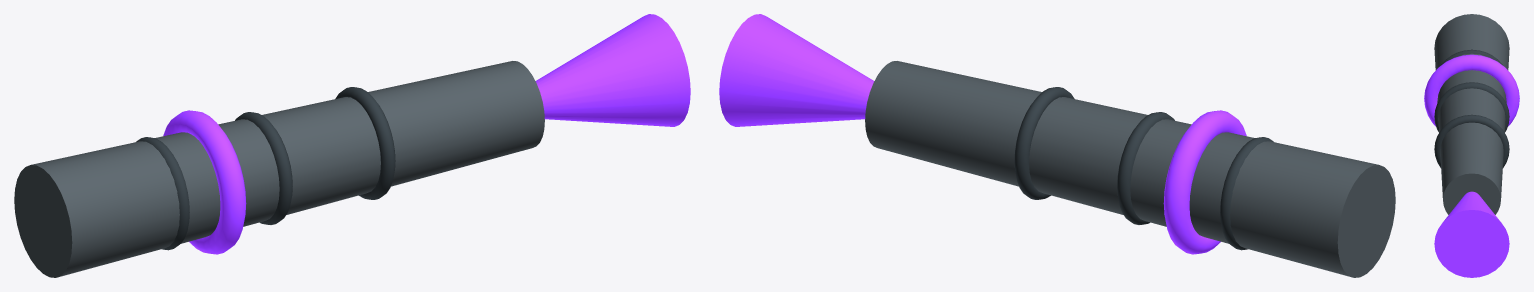
The model's file is shot.glb.
The picture shows the model from 3 angles, left to right: view 1: azimuth 30°, elevation 25°; view 2: azimuth 150°, elevation 25°; view 3: azimuth 270°, elevation 25°; orthographic projection. The views are drawn at different scales.
Size of the model in its own units: 2.71 by 0.56 by 0.56.
